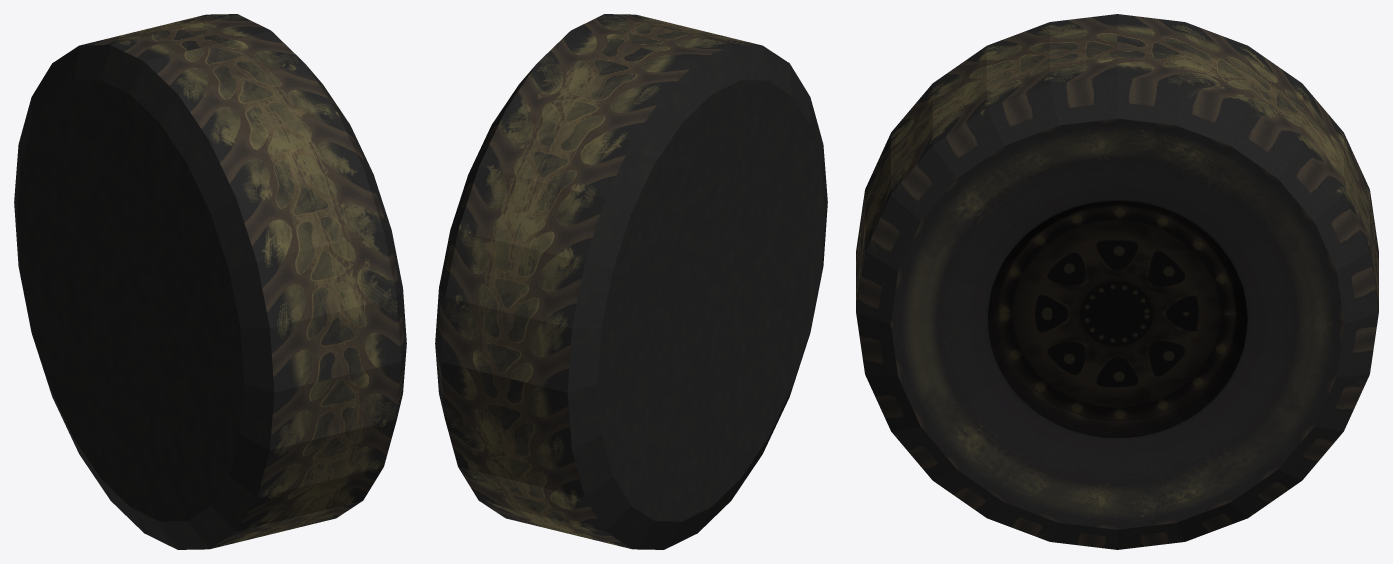
Rendered from WHEEL.fbx.
3 renders of one model, left to right at view 1: azimuth 30°, elevation 25°; view 2: azimuth 150°, elevation 25°; view 3: azimuth 270°, elevation 25°, orthographic.
Parts seen in each view (by area): view 1: Empty_Mesh; view 2: Empty_Mesh; view 3: Empty_Mesh.
Boxes of the visible parts, bbox=[...] form: Empty_Mesh: bbox=[14, 14, 406, 549]; Empty_Mesh: bbox=[435, 14, 827, 549]; Empty_Mesh: bbox=[856, 14, 1378, 549].
Bounding box in the file's own units: 3230 × 8907 × 8907.
